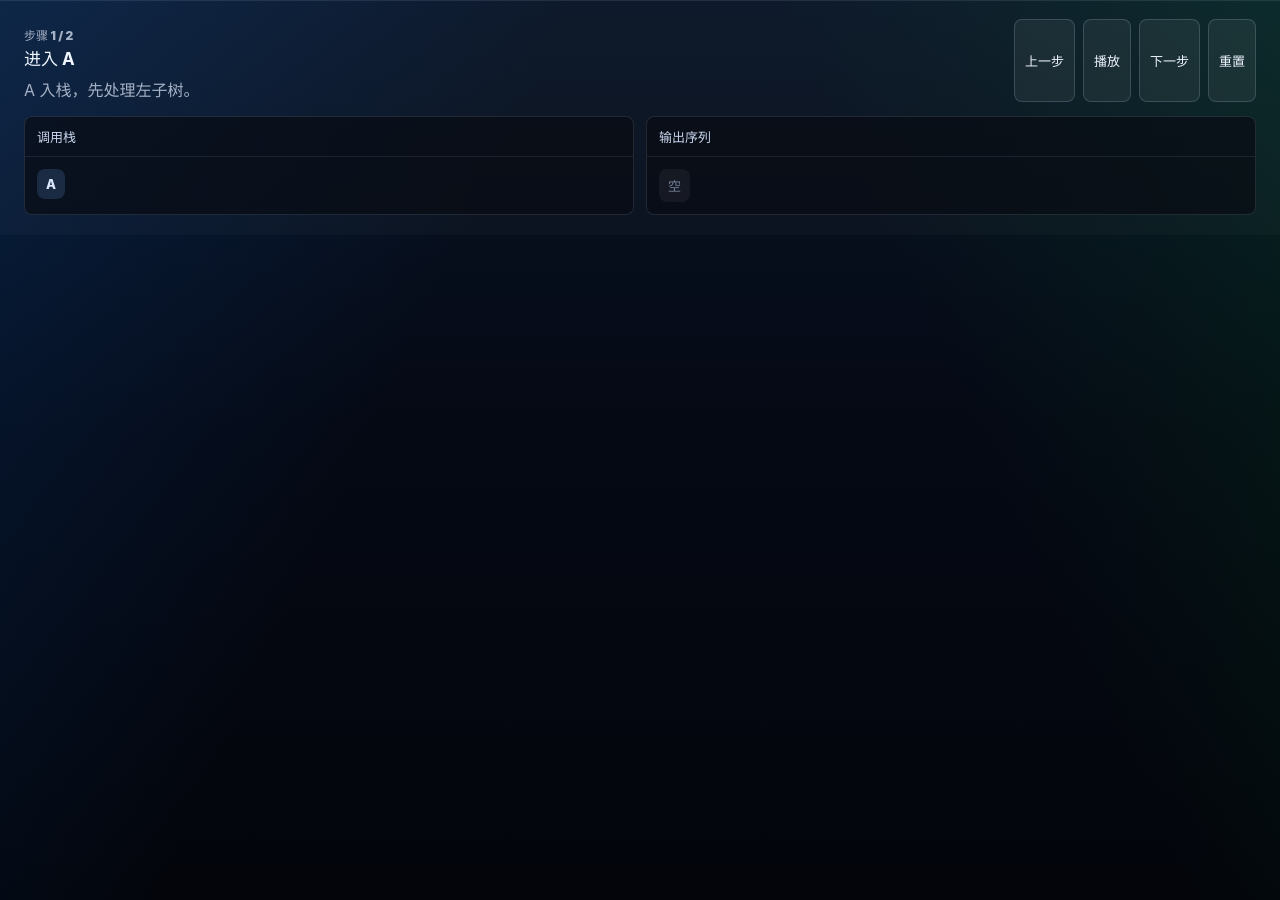
Test: ProcessPlayer › can auto-play and reset the trace
Click the button "播放". click: (1107, 61)
box: x1=1083 y1=19 x2=1131 y2=102
Wait 500 ms
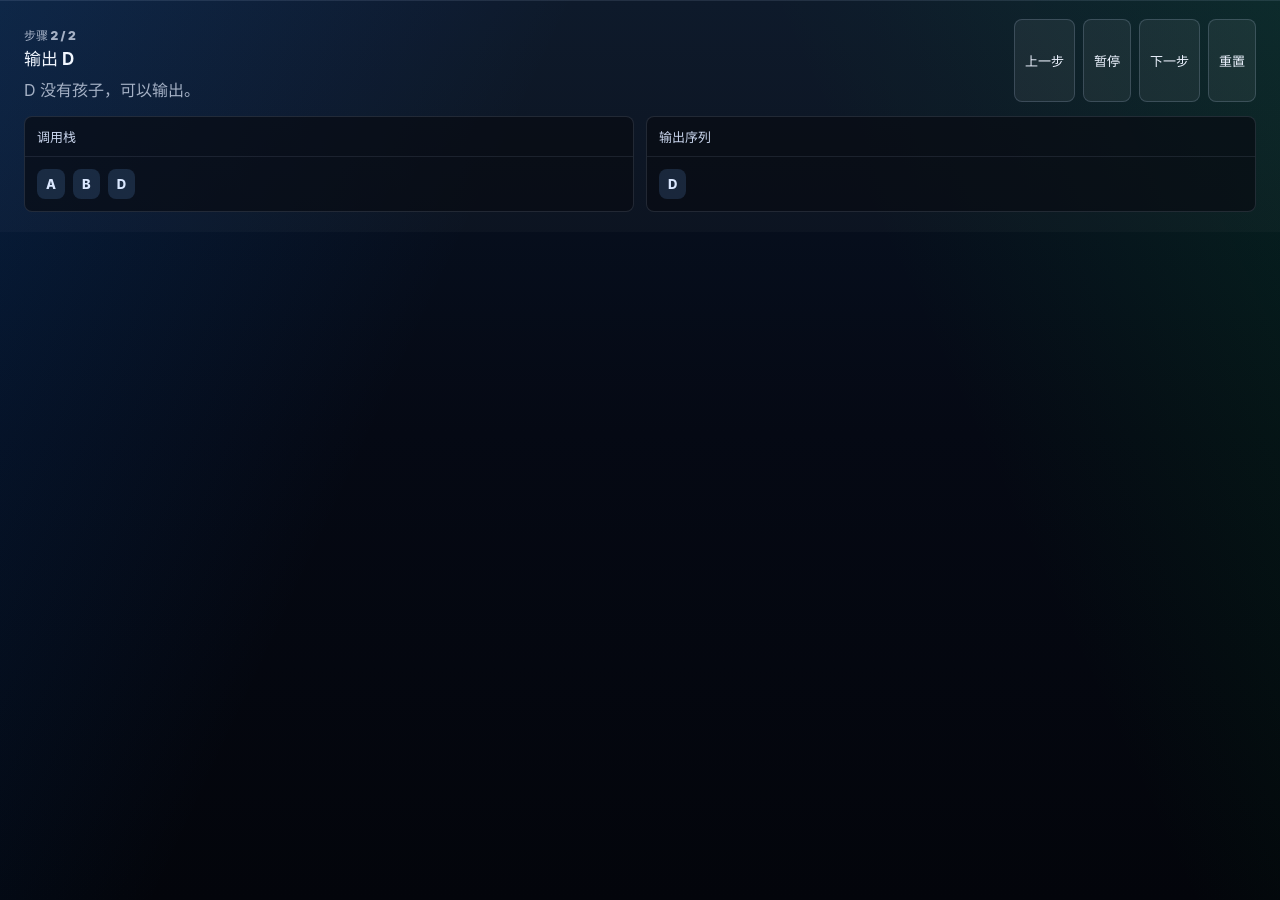
Check: the button "暂停" is shown, box x1=1083 y1=19 x2=1131 y2=102
Check: the text "步骤 2 / 2" is shown, box x1=24 y1=28 x2=76 y2=43
Click the button "重置". click: (1232, 61)
box: x1=1208 y1=19 x2=1256 y2=102
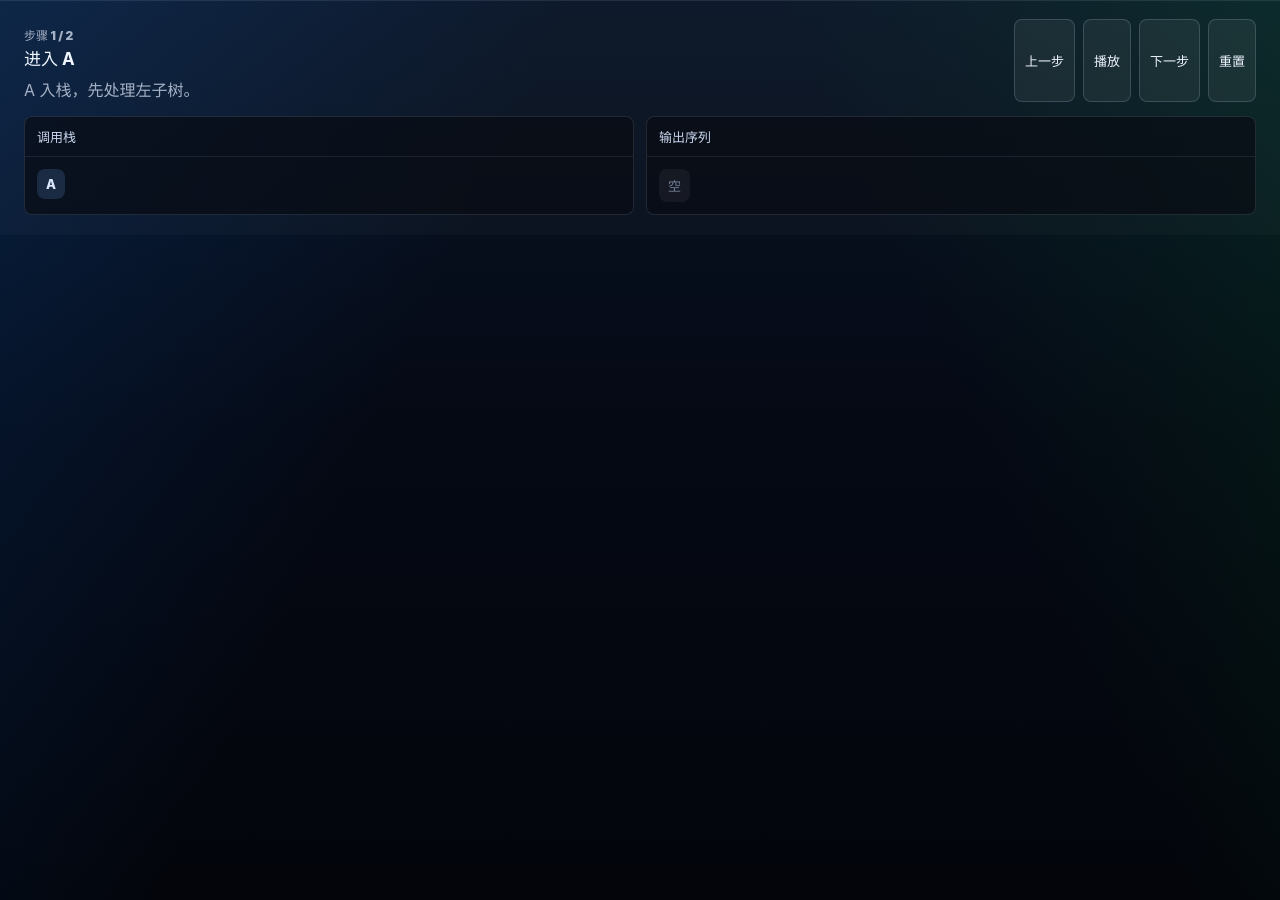
Check: the text "步骤 1 / 2" is shown, box x1=24 y1=28 x2=73 y2=43
Check: the button "播放" is shown, box x1=1083 y1=19 x2=1131 y2=102
